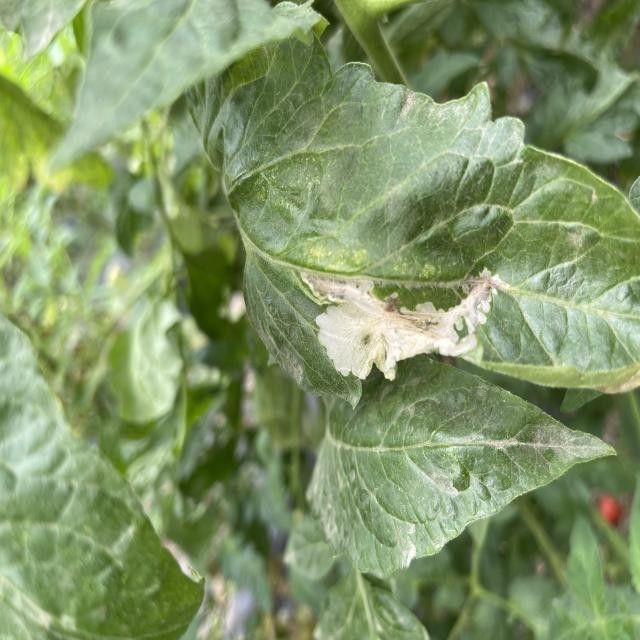Tuta absoluta: (302, 269, 503, 382)
